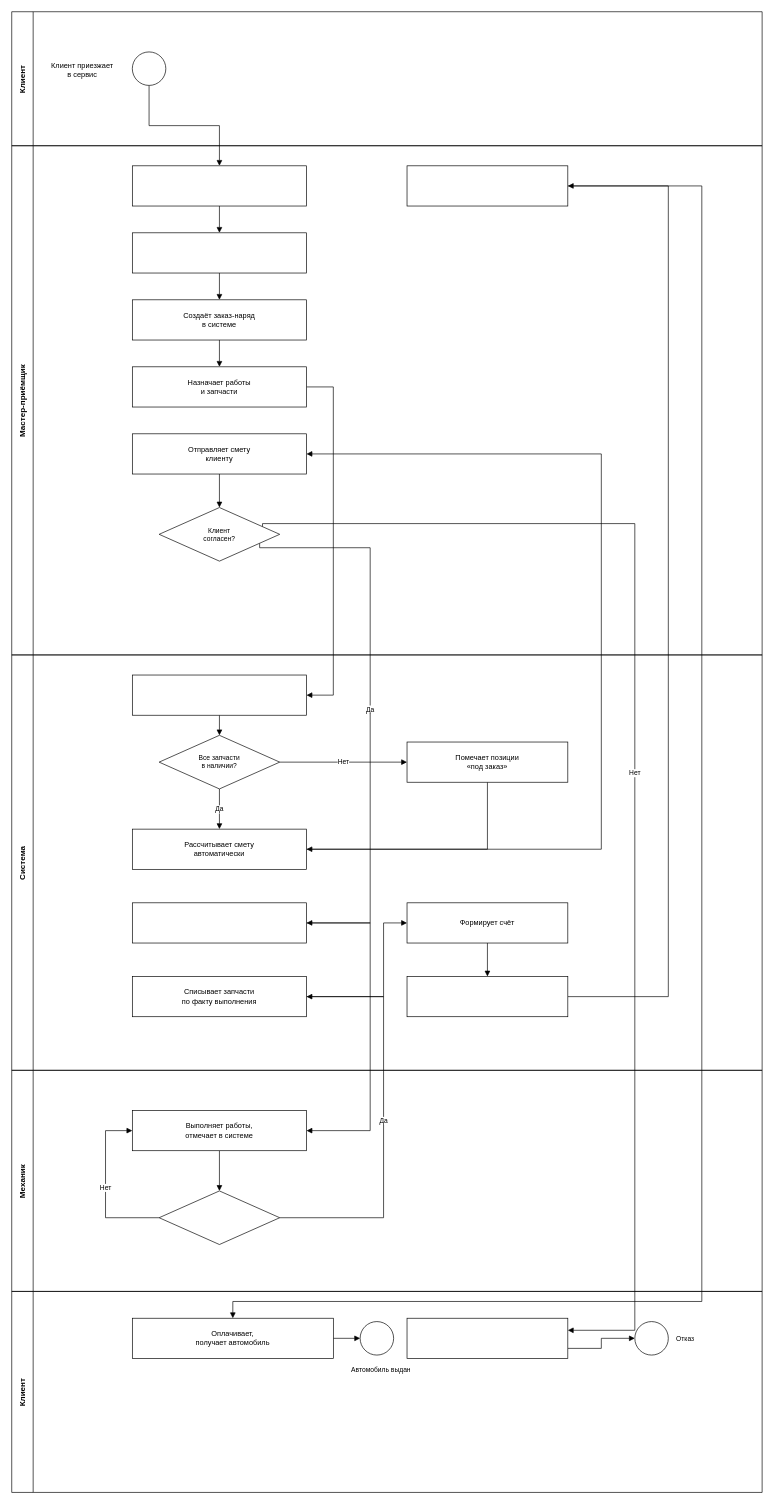
Image size: 774x1504. Some labels were removed from this diagram. The centre of each missing label's shape, as x and y in pixels:
Все работы выполнены?: the point at 219,1217
Выдаёт автомобиль, фиксирует оплату: the point at 487,185
Осматривает, фиксирует жалобы и пробег: the point at 219,252
Отказ от работ: the point at 487,1338
Открывает карточку клиента в системе: the point at 219,185
Проверяет наличие запчастей на складе: the point at 219,694
Резервирует запчасти, статус «в работе»: the point at 219,922
Уведомляет: «автомобиль готов»: the point at 487,996
